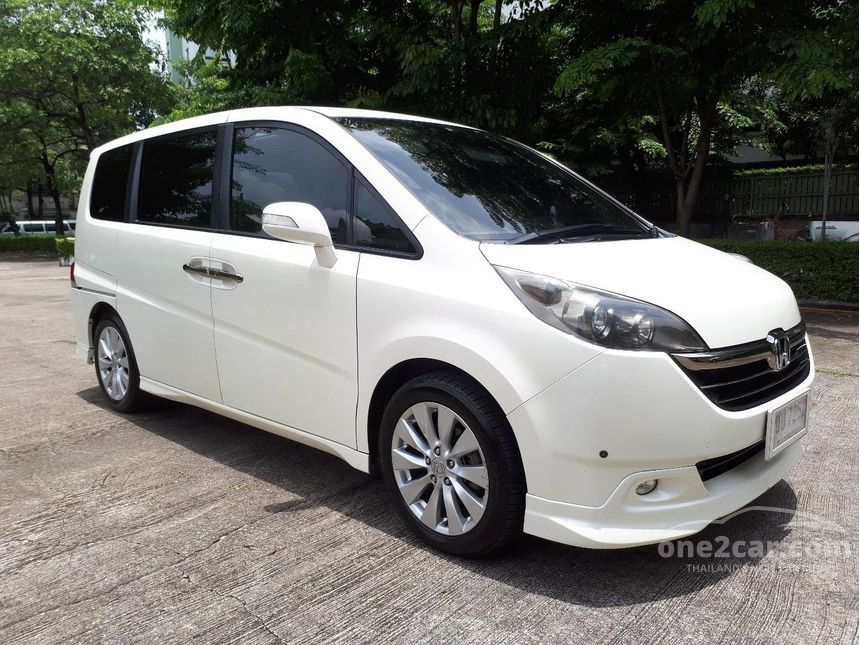van: (69, 100, 818, 558)
